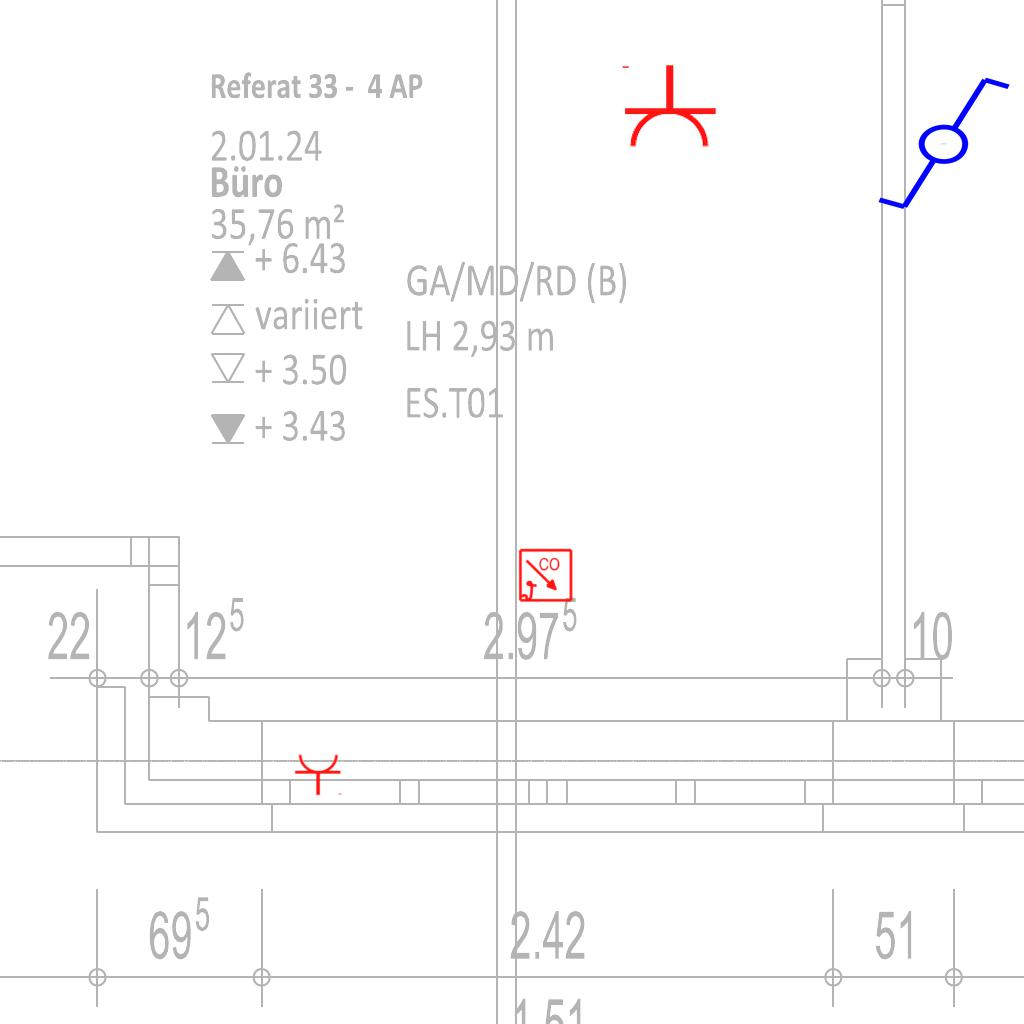ROA_Rauchmelder_optisch_mit_Signalgeber_(Sockelsirene): (518, 548, 574, 604)
Schukosteckdose_einfach: (618, 63, 718, 150), (294, 753, 344, 796)
Wechselschalter: (857, 70, 1014, 214)
